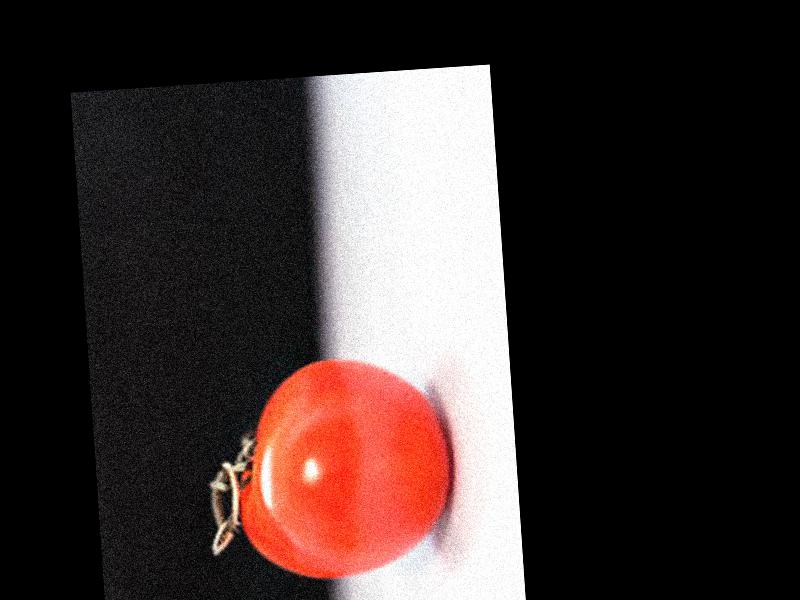Tomato: (229, 351, 457, 584)
